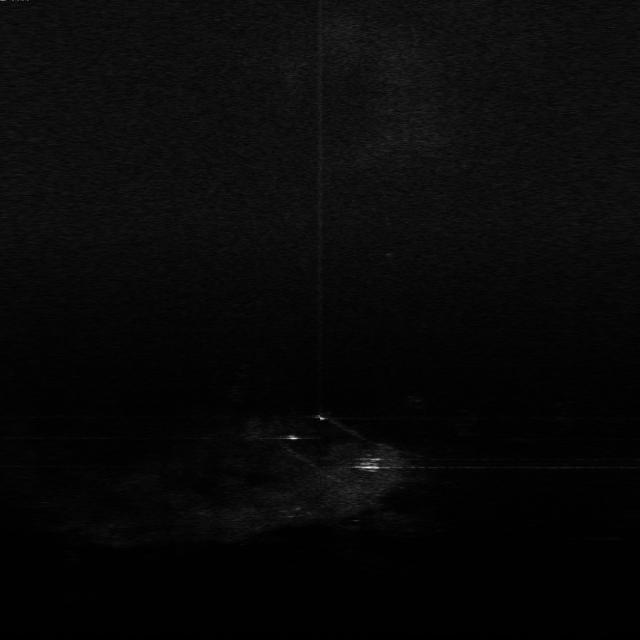rov: (350, 455, 386, 473)
